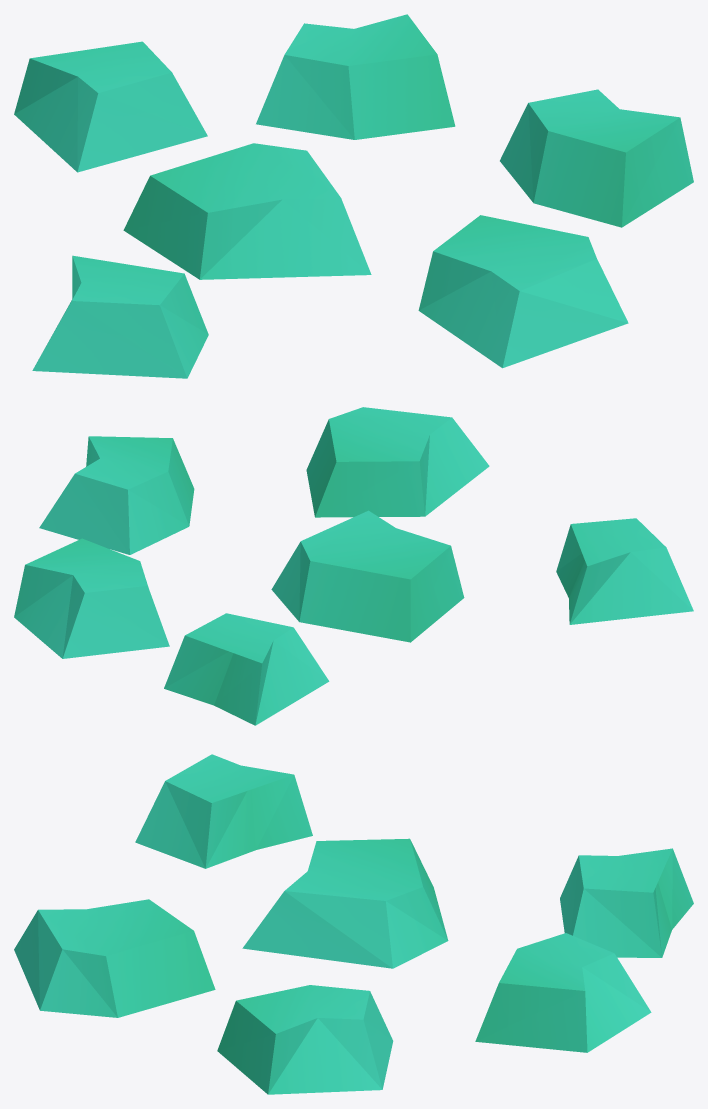
The model's file is SM_APP_Lush_Rock_smallpile.glb.
The picture shows the model from 3 angles, top to bottom: view 1: azimuth 30°, elevation 25°; view 2: azimuth 150°, elevation 25°; view 3: azimuth 270°, elevation 25°; orthographic projection. The views are drawn at different scales.
Visible parts, largest first — view 1: SM_APP_Lush_Rock_smallpile; view 2: SM_APP_Lush_Rock_smallpile; view 3: SM_APP_Lush_Rock_smallpile.
Boxes of the visible parts, bbox=[...] form: SM_APP_Lush_Rock_smallpile: bbox=[14, 14, 693, 378]; SM_APP_Lush_Rock_smallpile: bbox=[14, 407, 693, 725]; SM_APP_Lush_Rock_smallpile: bbox=[14, 754, 693, 1094].
Bounding box in the file's own units: 2.16 × 0.1907 × 2.07.
1 material, 1 textured.
